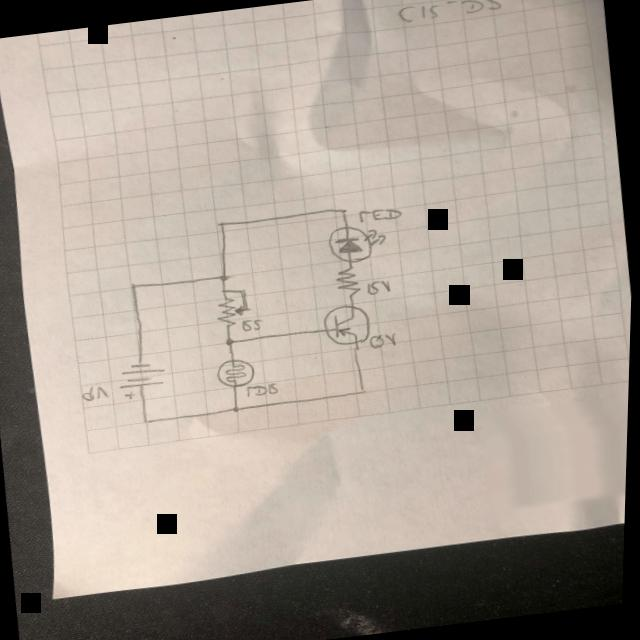diode: (325, 220, 390, 264)
junction: (215, 272, 231, 282), (224, 336, 237, 345), (128, 280, 139, 290), (359, 384, 370, 394), (217, 218, 227, 228), (231, 403, 242, 412), (339, 206, 350, 214), (143, 416, 154, 424)
resistor: (214, 355, 260, 390), (214, 294, 255, 328), (334, 263, 364, 300)
source: (118, 356, 171, 401)
text: (356, 203, 404, 224), (245, 380, 282, 398), (80, 383, 113, 402), (369, 330, 400, 350), (366, 277, 393, 296), (241, 316, 265, 332)
transistor: (320, 301, 374, 347)
